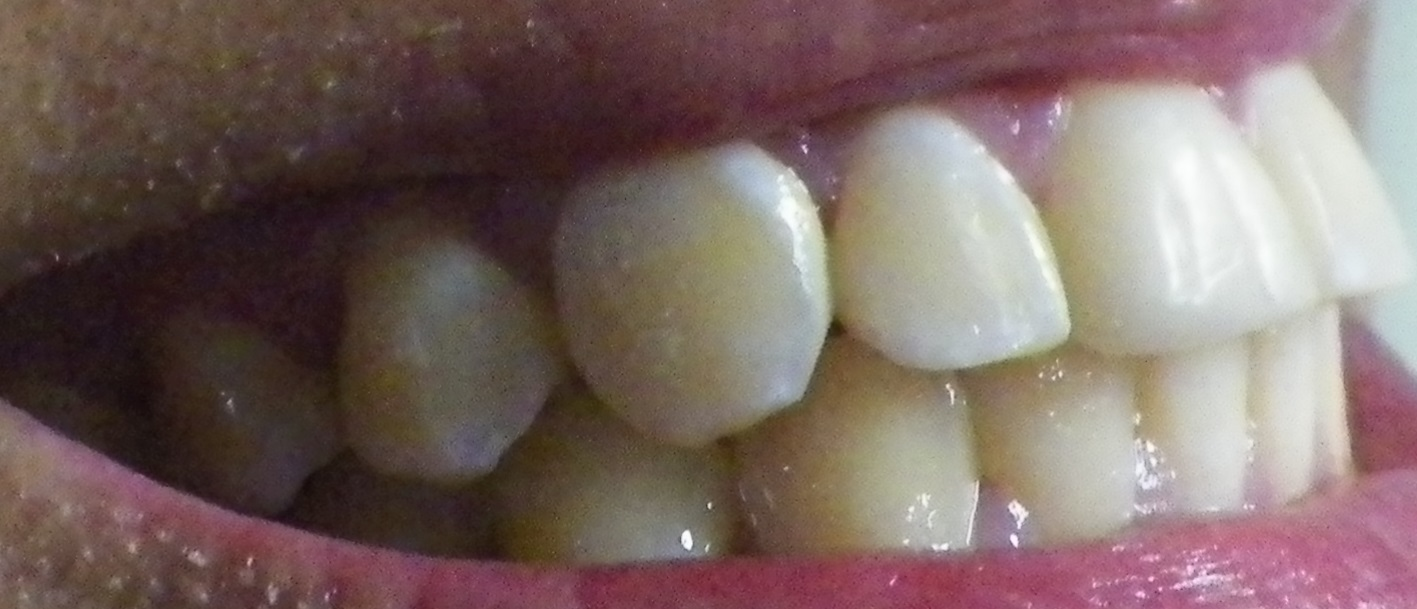boca: (173, 51, 1408, 558)
